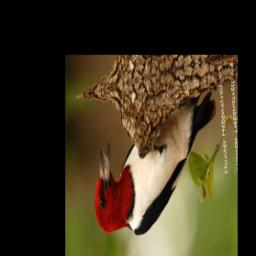Woodpecker: (90, 90, 223, 248)
